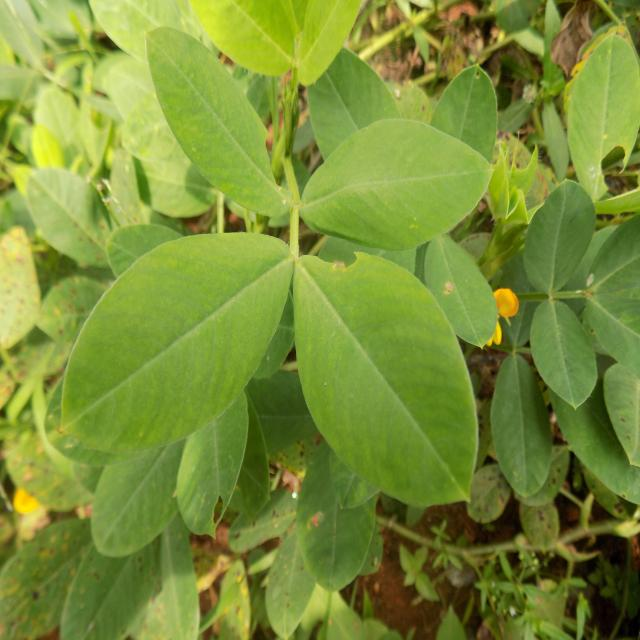Ground nut_healthy: (61, 234, 289, 452), (294, 254, 478, 504), (148, 30, 293, 217), (300, 119, 490, 245)
